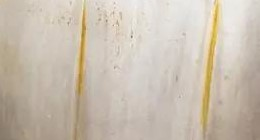Corrosion: (201, 1, 220, 140), (73, 1, 86, 140)
